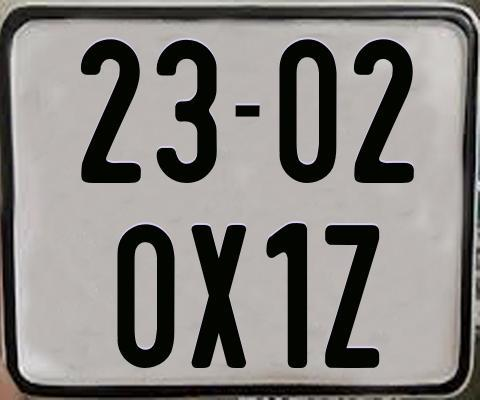0: (117, 224, 180, 373), (279, 36, 338, 186)
1: (264, 222, 307, 369)
2: (80, 38, 145, 184), (351, 36, 412, 181)
3: (154, 38, 221, 183)
X: (188, 222, 243, 369)
Z: (324, 223, 381, 370)
